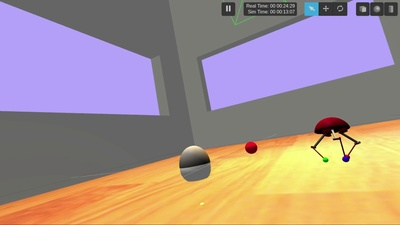mira_robot: (179, 145, 211, 182)
